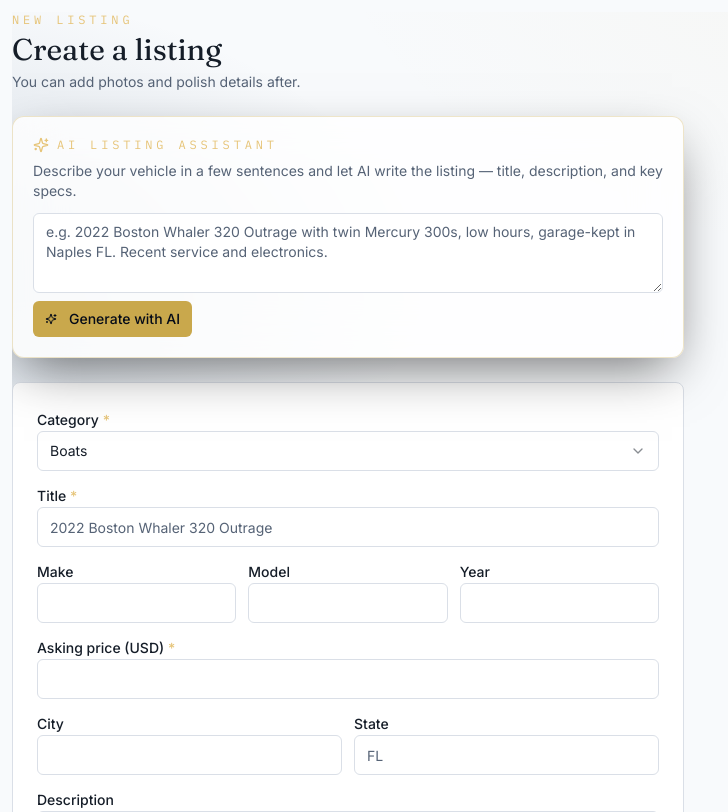
Test: CreateListing — AI assistant › requires a prompt before generating
This screenshot has width=728, height=812.
What coordinates should you click on to do the following:
click the button "Generate with AI"
I would click on:
 (112, 319)
Its box is x1=33 y1=301 x2=192 y2=337.
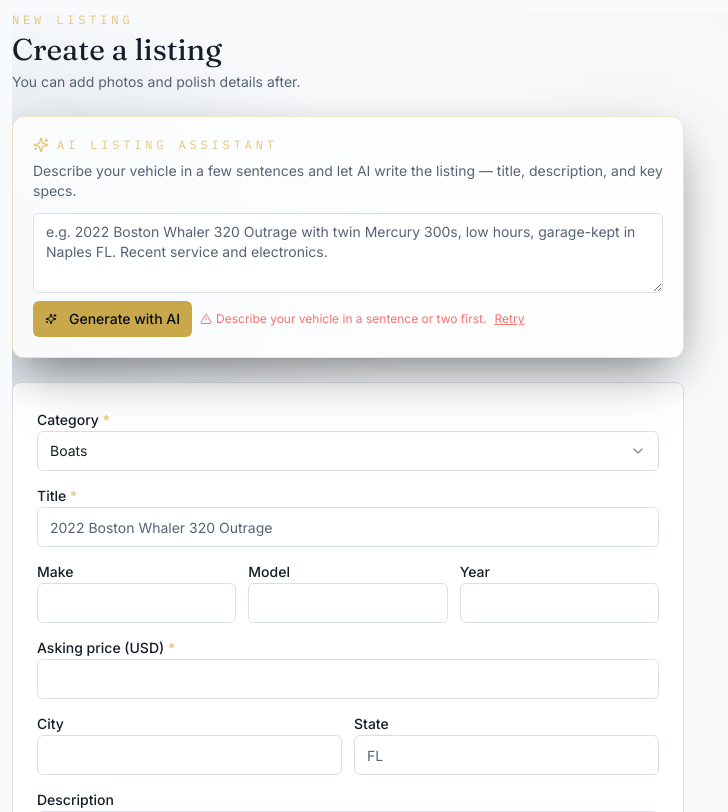
Now the text "Describe your vehicle in a sentence or two first." is shown, box x1=216 y1=311 x2=486 y2=326
